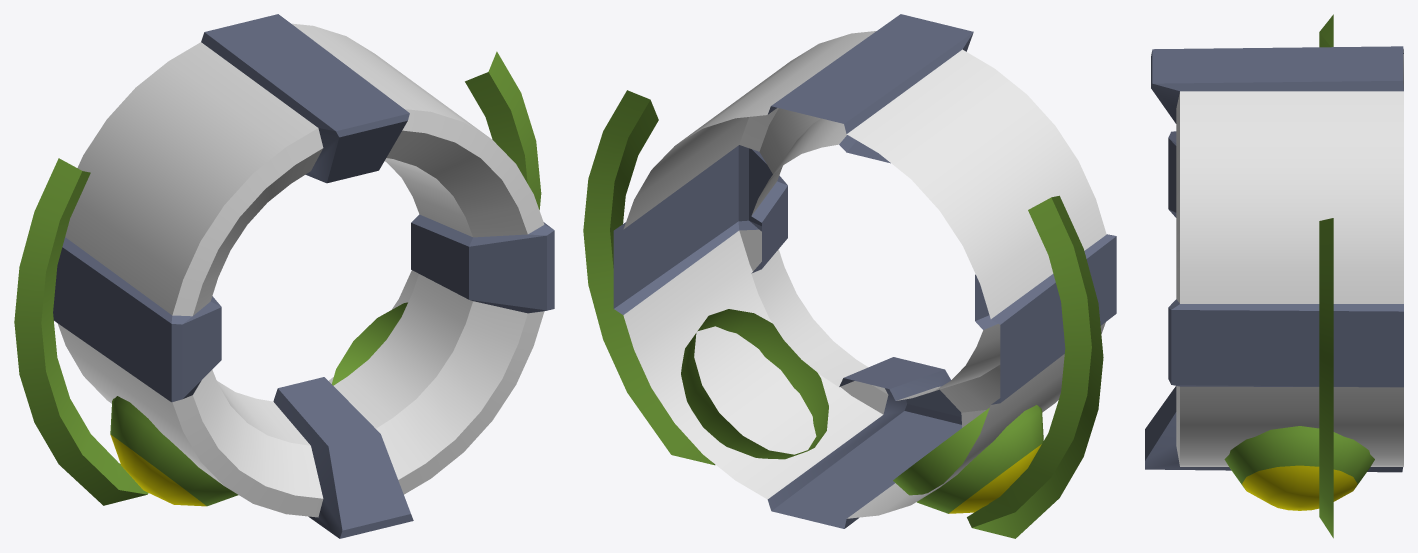
File: goal.fbx
3 renders of one model, left to right at view 1: azimuth 30°, elevation 25°; view 2: azimuth 150°, elevation 25°; view 3: azimuth 270°, elevation 25°, orthographic. The views are drawn at different scales.
Parts seen in each view (by area): view 1: Goal; view 2: Goal; view 3: Goal.
Part boxes in pixels (<box>): Goal: <box>14,14,554,538</box>; Goal: <box>583,14,1116,538</box>; Goal: <box>1145,14,1403,538</box>.
Bounding box in the file's own units: 30.18 × 22.64 × 13.47.
